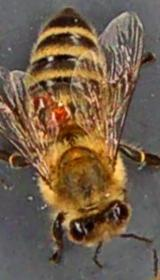varroa_mite: (47, 101, 82, 124)
